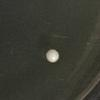white: (44, 47, 60, 64)
